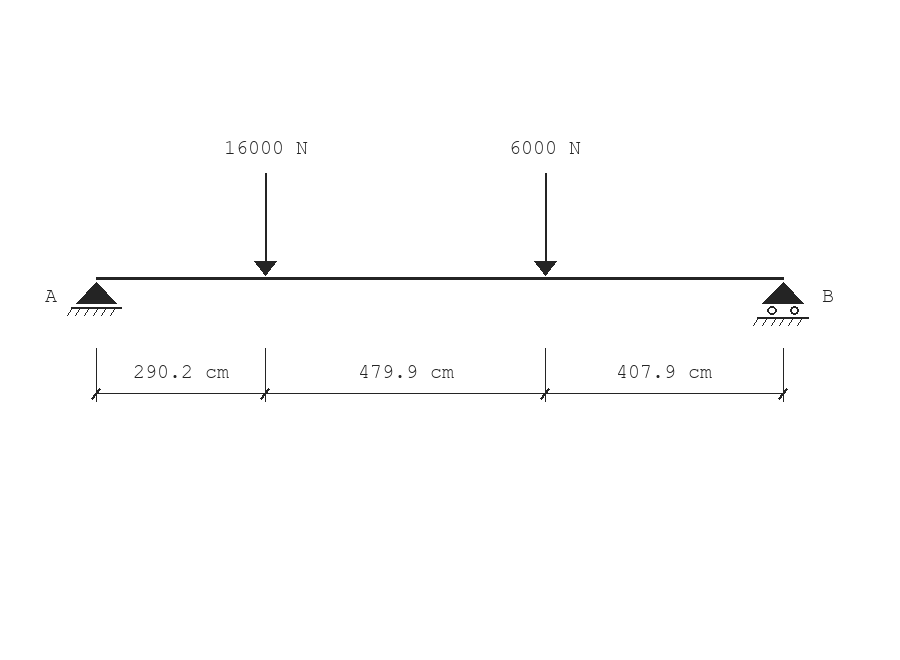pin_support: (67, 282, 122, 316)
point_load: (254, 173, 277, 276), (534, 173, 557, 276)
roller_support: (753, 282, 809, 326)
